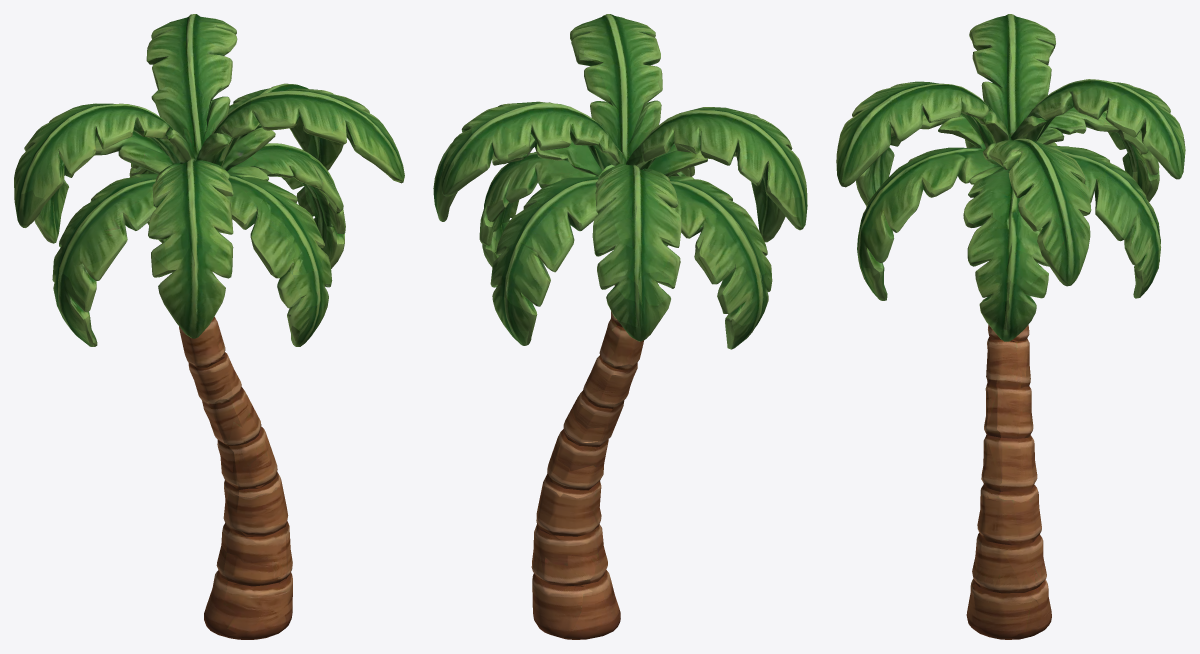
Rendered from palm.glb.
3 views of the same model, side by side, from view 1: azimuth 30°, elevation 25°; view 2: azimuth 150°, elevation 25°; view 3: azimuth 270°, elevation 25° (orthographic). The views are drawn at different scales.
Parts seen in each view (by area): view 1: Mesh_0; view 2: Mesh_0; view 3: Mesh_0.
Boxes of the visible parts, box(x1,y1,x2,y2) form: Mesh_0: box(14, 14, 404, 639); Mesh_0: box(433, 14, 807, 639); Mesh_0: box(836, 14, 1185, 639).
Size of the model in its own units: 1.22 by 1.9 by 1.11.
1 material, 1 textured.
